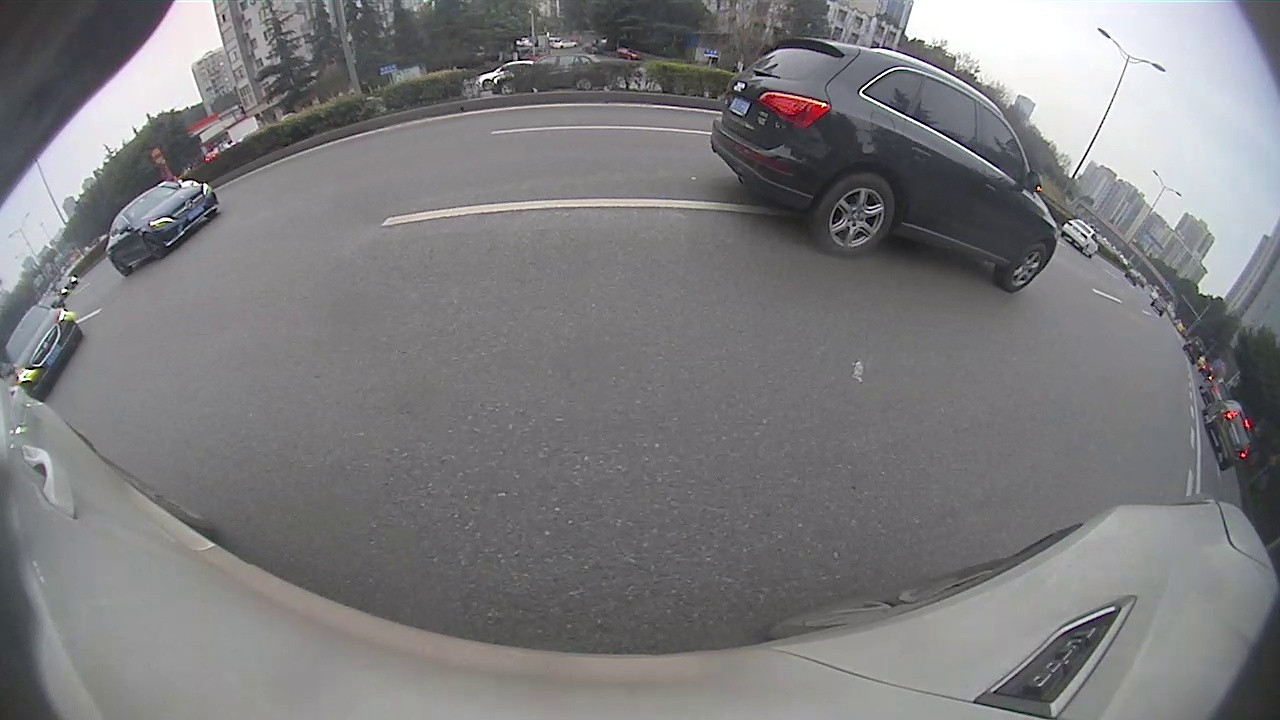car: (713, 36, 1057, 294), (107, 187, 216, 274), (6, 303, 82, 398), (1201, 399, 1252, 470), (1060, 220, 1098, 257)
front: (991, 240, 1050, 294), (142, 231, 169, 262)
rear: (804, 167, 899, 260)
